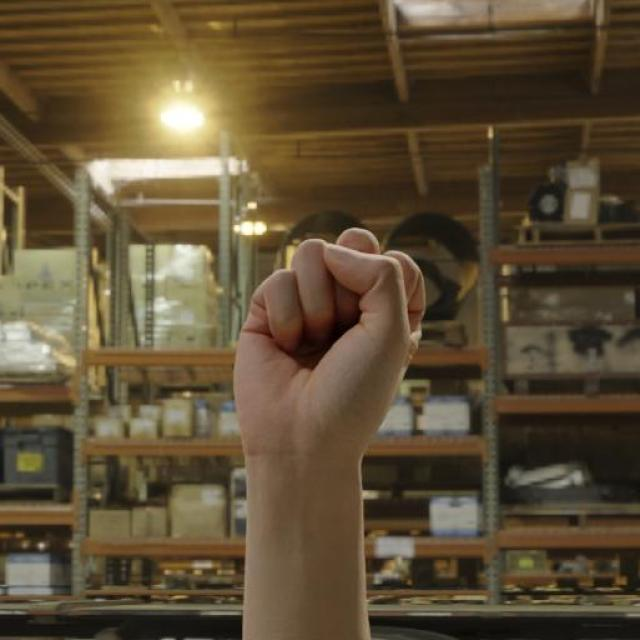S: (227, 223, 429, 462)
